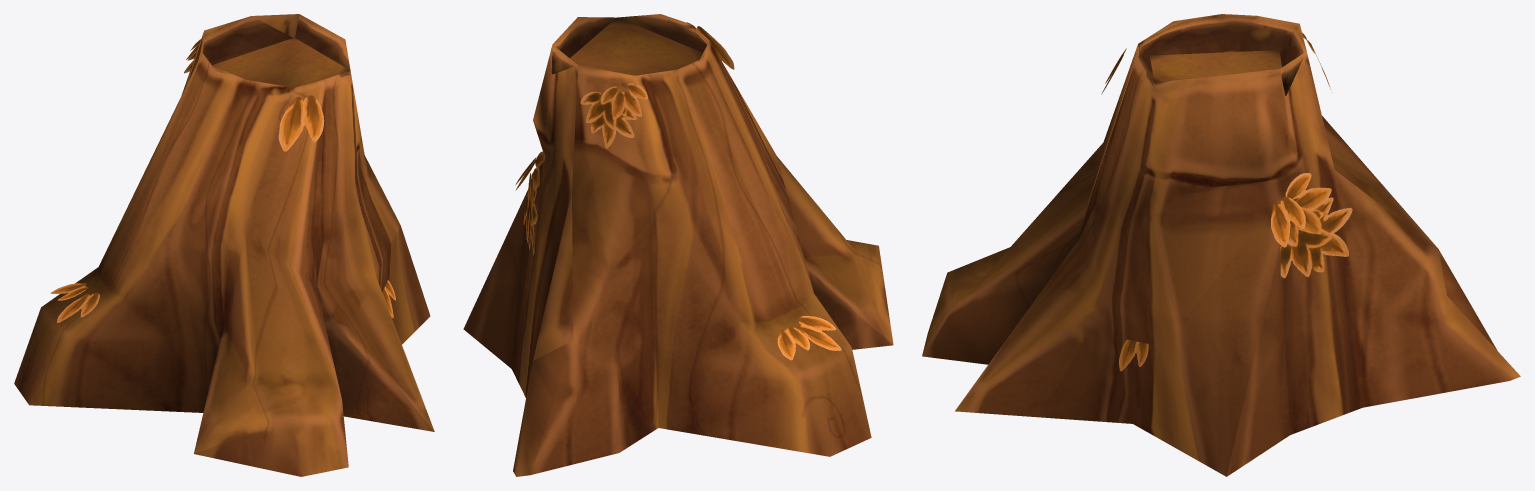
File: 9_Cafe_LOD_1.fbx
The picture shows the model from 3 angles, left to right: view 1: azimuth 30°, elevation 25°; view 2: azimuth 150°, elevation 25°; view 3: azimuth 270°, elevation 25°; orthographic projection. The views are drawn at different scales.
Visible parts, largest first — view 1: 9_Cafe_LOD_1; view 2: 9_Cafe_LOD_1; view 3: 9_Cafe_LOD_1.
Part boxes in pixels (x1,y1,x2,y2): 9_Cafe_LOD_1: [14, 14, 434, 476]; 9_Cafe_LOD_1: [463, 14, 893, 476]; 9_Cafe_LOD_1: [922, 14, 1520, 476].
Size of the model in its own units: 192 by 146 by 226.
